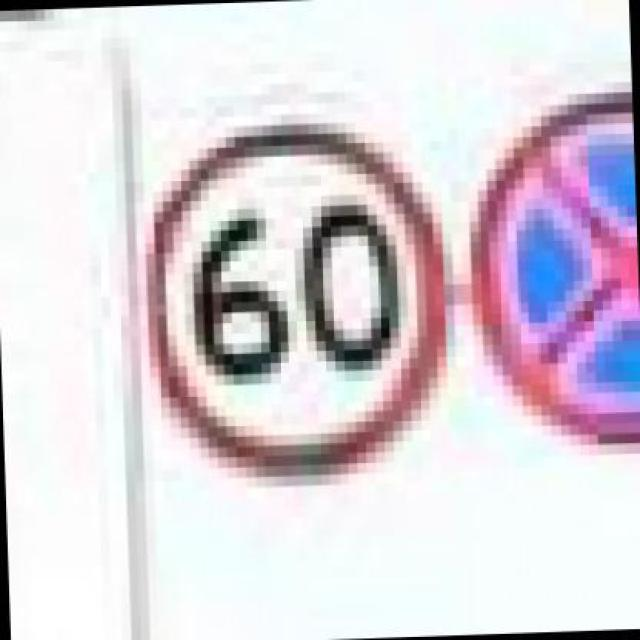Limite-60: (142, 116, 452, 484)
